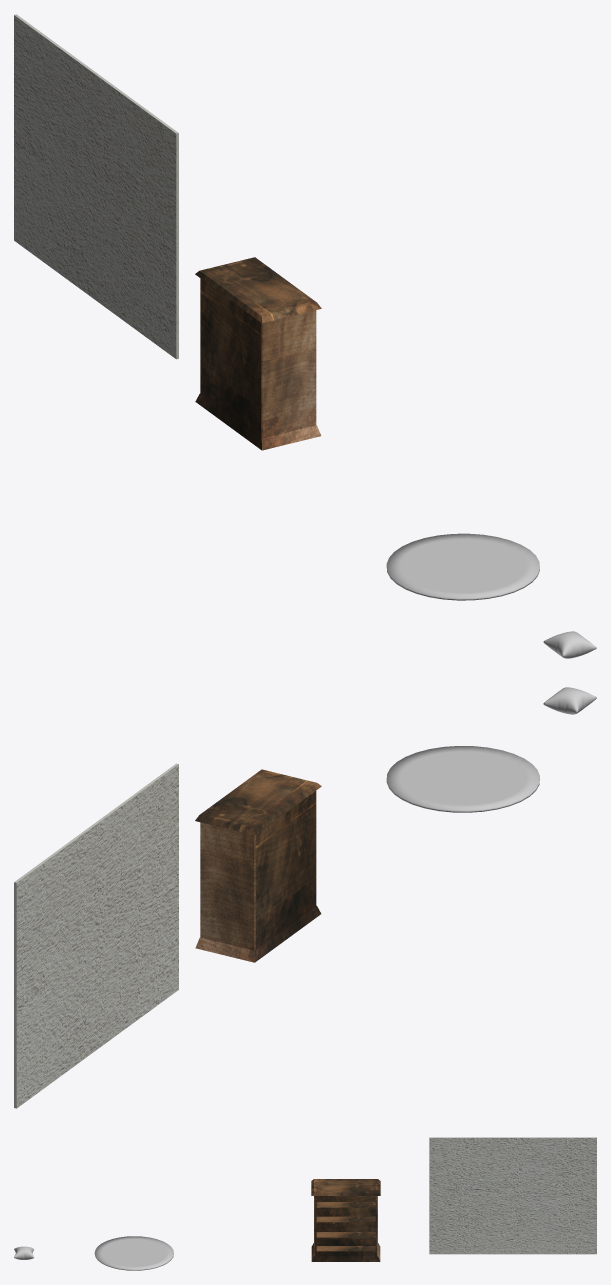
Rendered from Living_Room_assets.fbx.
3 views of the same model, one above another, from view 1: azimuth 30°, elevation 25°; view 2: azimuth 150°, elevation 25°; view 3: azimuth 270°, elevation 25° (orthographic). The views are drawn at different scales.
Parts seen in each view (by area): view 1: Cube.001, Cube, Circle, Pillow; view 2: Cube.001, Cube, Circle, Pillow; view 3: Cube.001, Cube, Circle, Pillow.
Boxes of the visible parts, box(x1,y1,x2,y2) form: Cube.001: box(14, 14, 178, 359); Cube: box(195, 257, 321, 450); Circle: box(386, 533, 539, 600); Pillow: box(543, 631, 596, 658); Cube.001: box(14, 763, 178, 1108); Cube: box(195, 769, 321, 962); Circle: box(386, 746, 539, 812); Pillow: box(543, 687, 596, 714); Cube.001: box(429, 1137, 596, 1254); Cube: box(311, 1179, 380, 1261); Circle: box(94, 1236, 173, 1270); Pillow: box(14, 1246, 34, 1259).
Size of the model in its own units: 2014 by 3398 by 14796.
